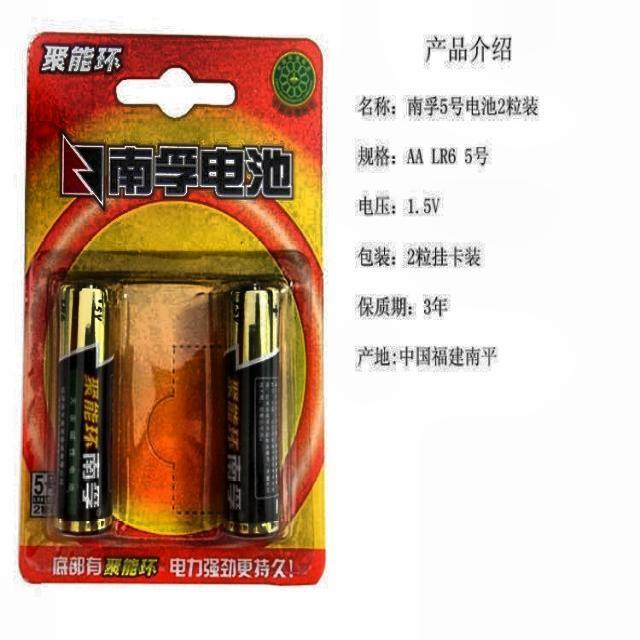battery: (55, 285, 114, 533), (225, 287, 281, 535)
